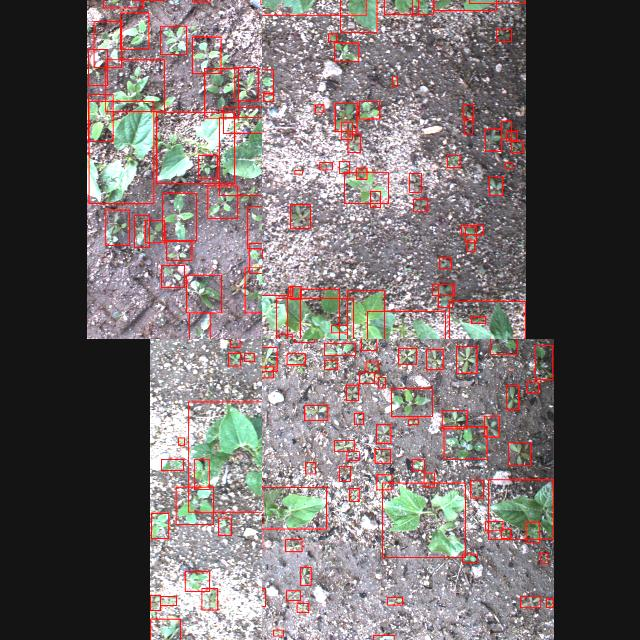crop: (188, 401, 262, 511), (88, 100, 152, 204), (382, 482, 464, 556), (156, 111, 234, 183), (488, 479, 554, 539), (219, 117, 262, 195), (275, 297, 353, 339), (262, 486, 326, 528), (367, 311, 445, 339), (346, 290, 383, 339), (340, 0, 376, 32), (433, 0, 496, 10), (383, 0, 418, 13)
weed: (104, 59, 164, 111), (449, 301, 525, 339), (299, 288, 339, 339), (204, 68, 238, 118), (162, 192, 196, 240), (175, 486, 213, 524), (444, 426, 486, 458), (344, 172, 388, 202), (186, 274, 220, 312), (93, 21, 121, 67), (391, 388, 432, 417), (88, 94, 112, 140), (192, 36, 220, 74), (222, 107, 262, 133), (120, 12, 148, 48), (207, 185, 237, 217), (104, 210, 128, 244), (233, 66, 257, 100), (244, 267, 262, 312), (160, 26, 186, 54), (334, 102, 356, 132), (149, 618, 179, 640), (88, 49, 106, 85), (247, 206, 262, 248), (535, 345, 553, 379), (188, 311, 209, 339), (165, 240, 191, 260), (456, 346, 476, 372), (160, 265, 183, 287), (508, 442, 530, 464), (290, 204, 310, 228), (334, 42, 358, 62), (184, 571, 208, 591), (150, 512, 168, 538), (442, 409, 466, 428), (134, 215, 148, 247), (144, 220, 164, 242), (198, 154, 216, 178), (248, 243, 262, 273), (194, 459, 208, 489), (484, 128, 502, 150), (489, 339, 516, 353), (359, 100, 379, 118), (324, 343, 354, 355), (201, 588, 217, 610), (304, 404, 326, 420), (438, 283, 452, 307), (262, 347, 276, 371), (426, 349, 442, 369), (506, 385, 518, 409), (398, 347, 416, 363), (411, 0, 433, 13), (102, 0, 142, 7), (408, 172, 422, 192), (484, 416, 498, 436), (526, 521, 540, 541), (376, 423, 390, 442), (376, 474, 392, 490), (489, 176, 503, 194), (160, 458, 182, 469), (520, 595, 540, 607), (471, 479, 484, 497), (262, 69, 272, 92), (412, 198, 428, 212), (374, 449, 390, 463), (432, 284, 454, 294), (461, 224, 483, 234), (347, 134, 359, 152), (340, 121, 352, 139), (333, 440, 353, 450), (286, 352, 304, 363), (464, 226, 476, 242), (496, 29, 512, 41), (218, 518, 230, 534), (346, 384, 358, 400), (285, 539, 301, 551), (501, 120, 511, 138), (300, 566, 310, 584), (360, 339, 376, 350), (228, 352, 240, 366), (370, 191, 380, 207), (463, 104, 473, 120), (149, 594, 159, 610), (486, 520, 502, 530), (462, 552, 478, 562), (358, 372, 374, 382), (446, 155, 459, 167), (338, 466, 349, 480), (439, 256, 451, 268), (511, 140, 523, 152), (285, 590, 299, 600), (424, 472, 434, 486), (323, 359, 337, 369), (365, 361, 377, 372), (331, 324, 347, 332), (464, 117, 472, 133), (159, 596, 175, 604), (386, 596, 402, 604), (262, 366, 273, 377), (290, 286, 300, 298), (339, 161, 349, 173), (527, 382, 539, 392), (412, 460, 424, 470), (373, 634, 393, 640), (349, 488, 359, 500), (296, 602, 308, 612), (305, 461, 315, 473), (346, 450, 358, 460), (318, 161, 332, 169), (356, 168, 366, 178), (506, 130, 516, 140), (501, 528, 511, 538), (353, 412, 362, 423), (470, 316, 486, 322), (466, 239, 474, 251), (263, 93, 273, 101), (243, 353, 253, 361), (229, 339, 239, 347), (540, 553, 548, 563), (377, 377, 385, 387), (278, 333, 291, 339), (314, 105, 324, 112), (328, 33, 336, 41), (546, 598, 554, 606), (408, 418, 418, 424), (273, 629, 283, 635), (504, 162, 512, 168), (288, 286, 292, 296), (392, 76, 396, 86), (294, 339, 313, 341), (178, 438, 184, 444), (262, 588, 264, 606), (294, 169, 302, 173)
